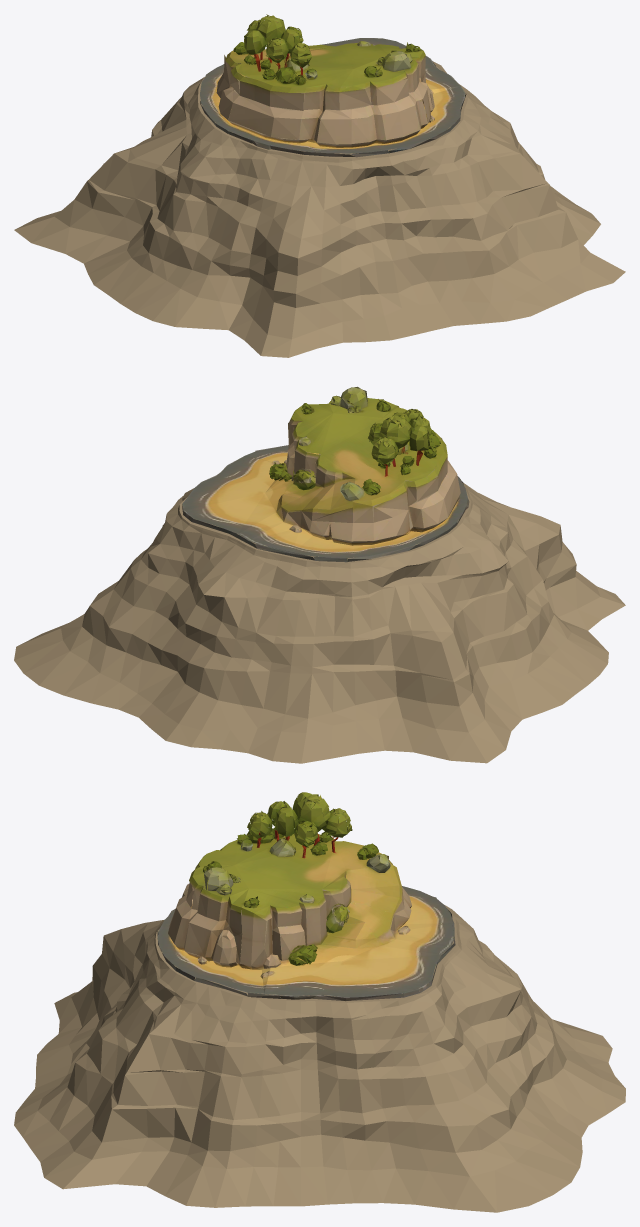
The model's file is green_b.glb.
3 views of the same model, one above another, from view 1: azimuth 30°, elevation 25°; view 2: azimuth 150°, elevation 25°; view 3: azimuth 270°, elevation 25° (orthographic). The views are drawn at different scales.
Parts seen in each view (by area): view 1: lod0; view 2: lod0; view 3: lod0.
Boxes of the visible parts, <box> form: lod0: <box>14,14,625,357</box>; lod0: <box>14,386,625,763</box>; lod0: <box>14,792,625,1212</box>.
Size of what is drawn, in the model's own units: 3.9 by 1.89 by 4.02.
Materials: 1 (1 with a texture image).
